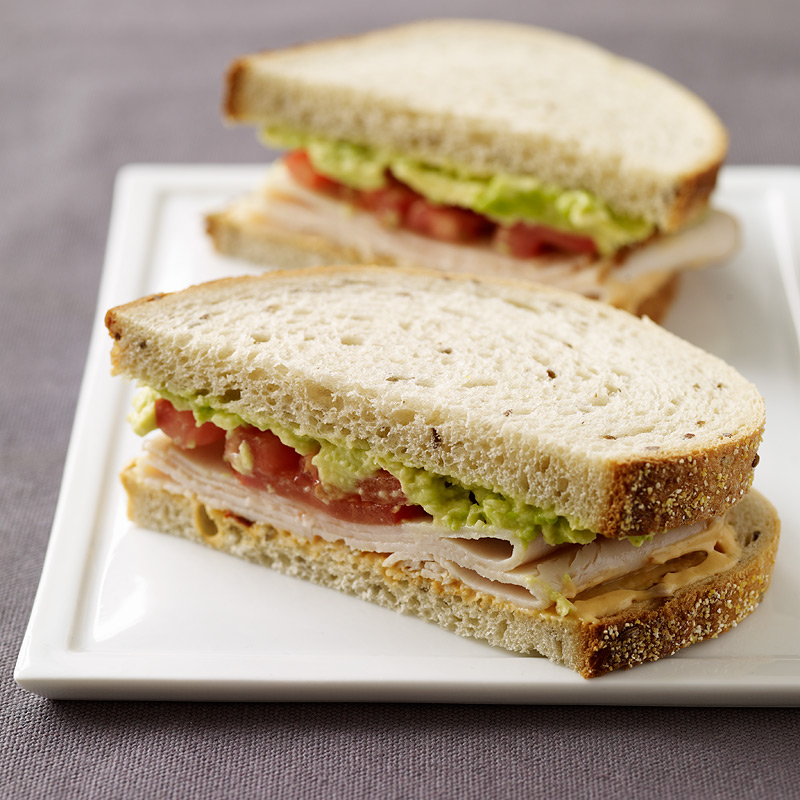sandwich: (84, 248, 793, 697), (174, 7, 756, 355)
